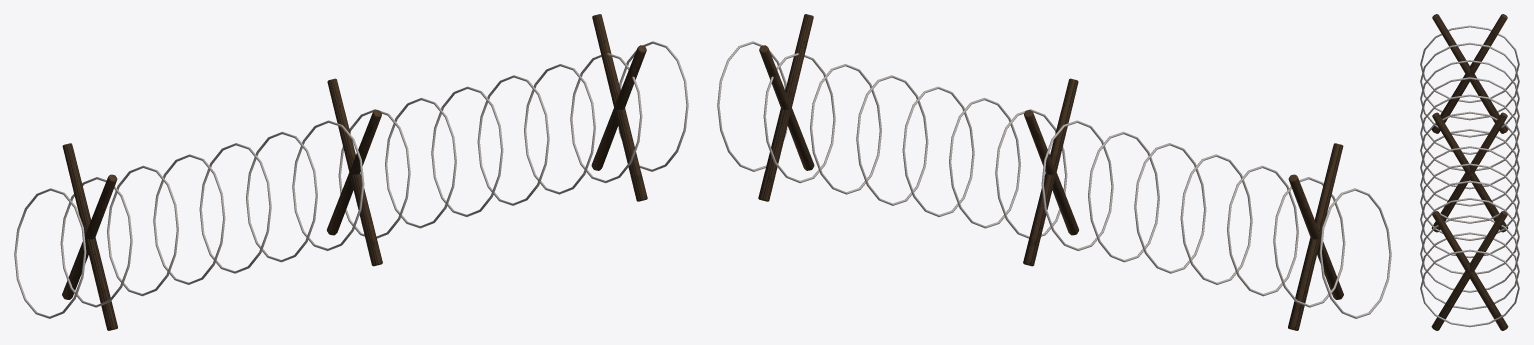
Rendered from prop_barbed_wire.glb.
3 views of the same model, side by side, from view 1: azimuth 30°, elevation 25°; view 2: azimuth 150°, elevation 25°; view 3: azimuth 270°, elevation 25° (orthographic). The views are drawn at different scales.
Visible parts, largest first — view 1: PostA, PostA.002, PostA.001, PostB.002, PostB.001, PostB, Coil0, Coil9, Coil8, Coil4, Coil11, Coil5 (+8 smaller); view 2: PostB, PostB.002, PostB.001, PostA.002, PostA.001, PostA, Coil0, Coil9, Coil8, Coil4, Coil11, Coil5 (+8 smaller); view 3: PostA.002, PostB.002, PostA, PostB, PostA.001, PostB.001, Coil13, Coil10, Coil4, Coil7, Coil1, Coil8 (+8 smaller).
Part boxes in pixels (x1=…): PostA: x1=62, y1=143, x2=117, y2=330; PostA.002: x1=592, y1=14, x2=647, y2=201; PostA.001: x1=327, y1=78, x2=382, y2=266; PostB.002: x1=591, y1=45, x2=646, y2=170; PostB.001: x1=327, y1=110, x2=381, y2=235; PostB: x1=62, y1=174, x2=117, y2=299; Coil0: x1=14, y1=188, x2=86, y2=318; Coil9: x1=431, y1=86, x2=503, y2=216; Coil8: x1=385, y1=98, x2=456, y2=228; Coil4: x1=199, y1=143, x2=271, y2=273; Coil11: x1=524, y1=64, x2=595, y2=194; Coil5: x1=246, y1=131, x2=317, y2=262; PostB: x1=1288, y1=143, x2=1343, y2=330; PostB.002: x1=758, y1=14, x2=813, y2=201; PostB.001: x1=1023, y1=78, x2=1078, y2=266; PostA.002: x1=759, y1=45, x2=814, y2=170; PostA.001: x1=1024, y1=110, x2=1078, y2=235; PostA: x1=1288, y1=174, x2=1343, y2=299; Coil0: x1=1319, y1=188, x2=1391, y2=318; Coil9: x1=902, y1=86, x2=974, y2=216; Coil8: x1=949, y1=98, x2=1020, y2=228; Coil4: x1=1134, y1=143, x2=1206, y2=273; Coil11: x1=810, y1=64, x2=881, y2=194; Coil5: x1=1088, y1=131, x2=1159, y2=262; PostA.002: x1=1431, y1=211, x2=1507, y2=330; PostB.002: x1=1432, y1=211, x2=1508, y2=330; PostA: x1=1431, y1=14, x2=1507, y2=133; PostB: x1=1432, y1=14, x2=1508, y2=133; PostA.001: x1=1431, y1=112, x2=1507, y2=232; PostB.001: x1=1432, y1=112, x2=1508, y2=232; Coil13: x1=1420, y1=249, x2=1519, y2=327; Coil10: x1=1420, y1=198, x2=1519, y2=274; Coil4: x1=1420, y1=94, x2=1519, y2=171; Coil7: x1=1420, y1=146, x2=1519, y2=223; Coil1: x1=1420, y1=42, x2=1519, y2=120; Coil8: x1=1420, y1=163, x2=1519, y2=240.
Bounding box in the file's own units: 4.77 × 1.12 × 0.856.
Materials: 2 (1 with a texture image).
